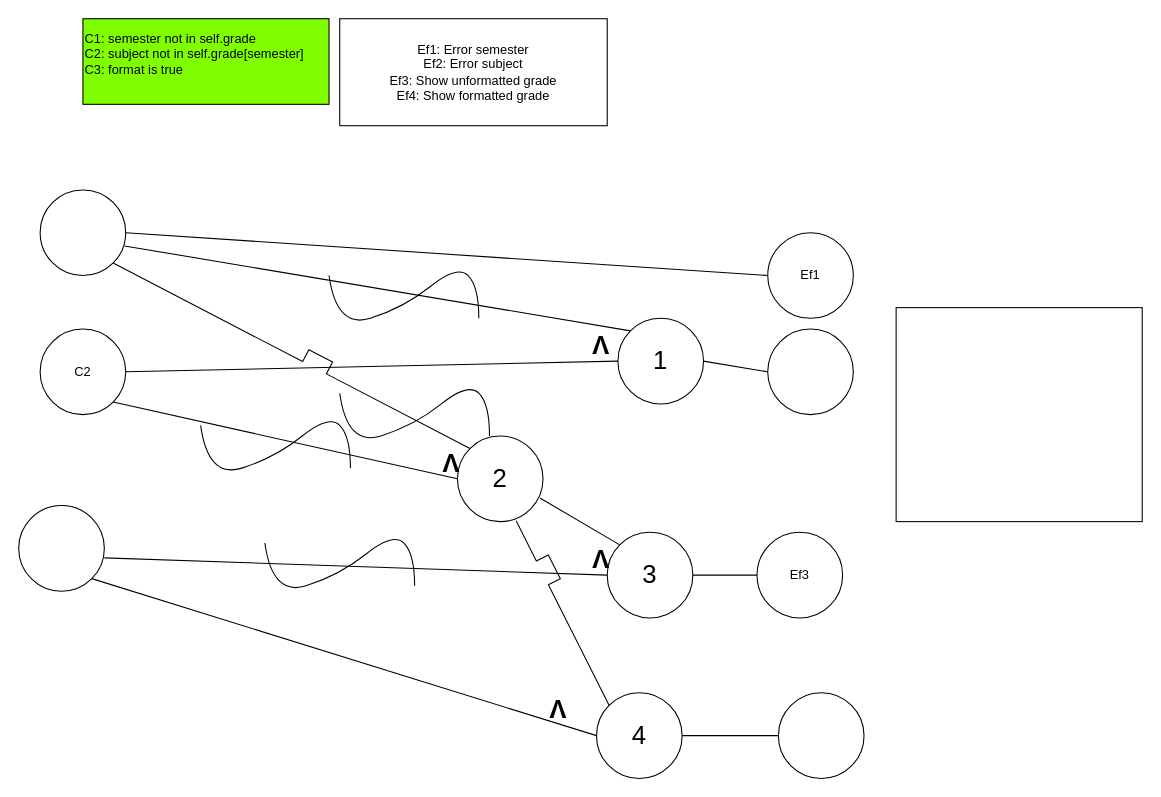
This 1161x797 diagram has some shape labels left out. Each missing label, with the centre of its shape:
C1: (x=82, y=232)
C3: (x=61, y=548)
Ef2: (x=810, y=371)
Ef4: (x=820, y=735)
ORICARE EFECT MASCHEAZA RESTUL EFECTELOR: (x=1018, y=414)
